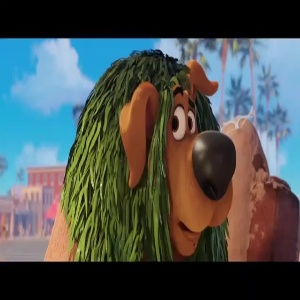Scooby: (122, 68, 244, 251)
